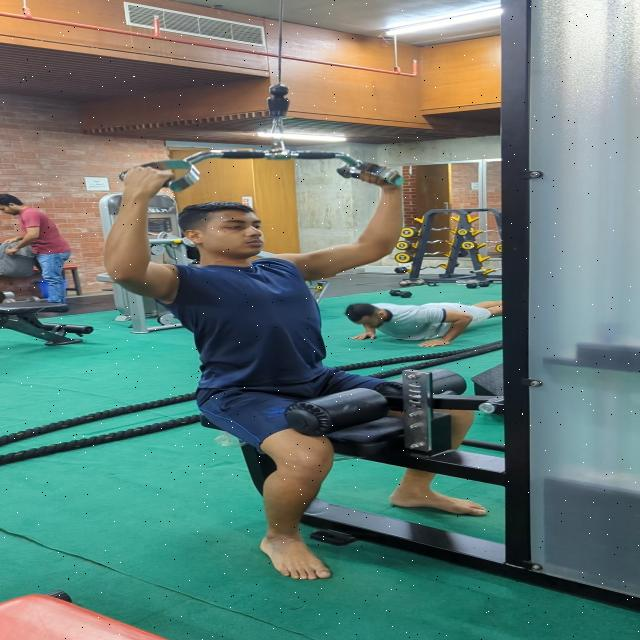Normal_LatPulldown: (92, 152, 474, 595)
